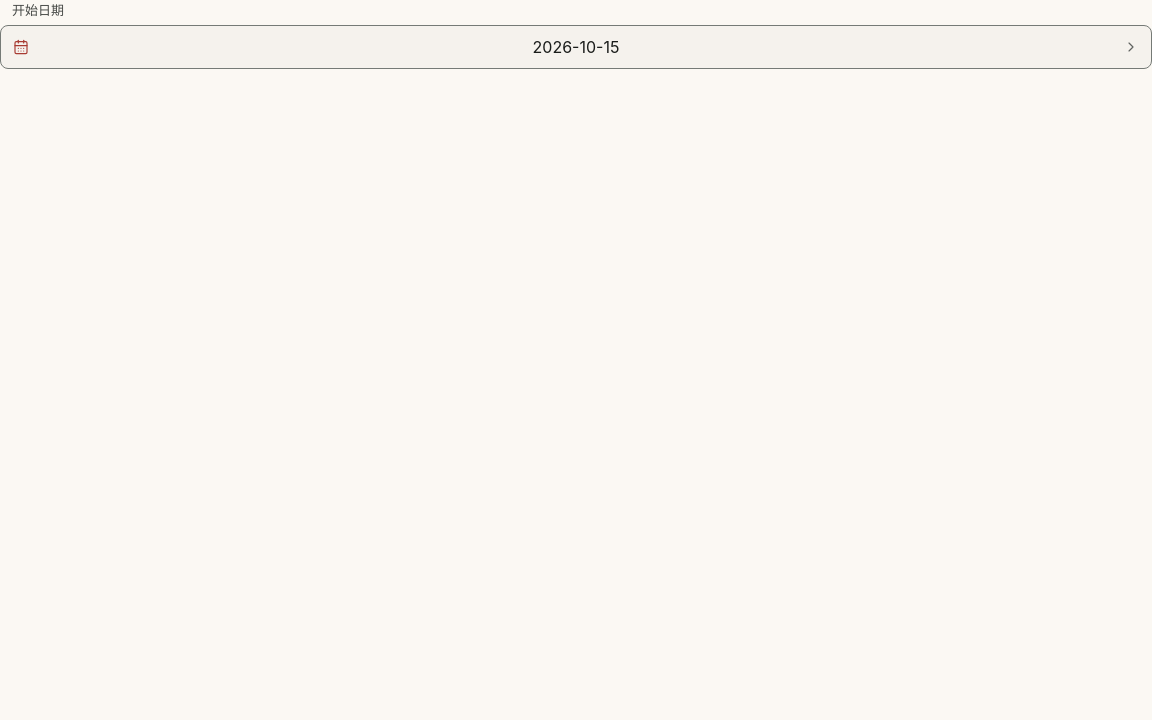
Test: shared control keyboard and focus behavior › closes the calendar with Escape from a day button and returns focus
The image size is (1152, 720).
Click the button named "开始日期". click: [576, 47]
box: x1=0 y1=25 x2=1151 y2=69
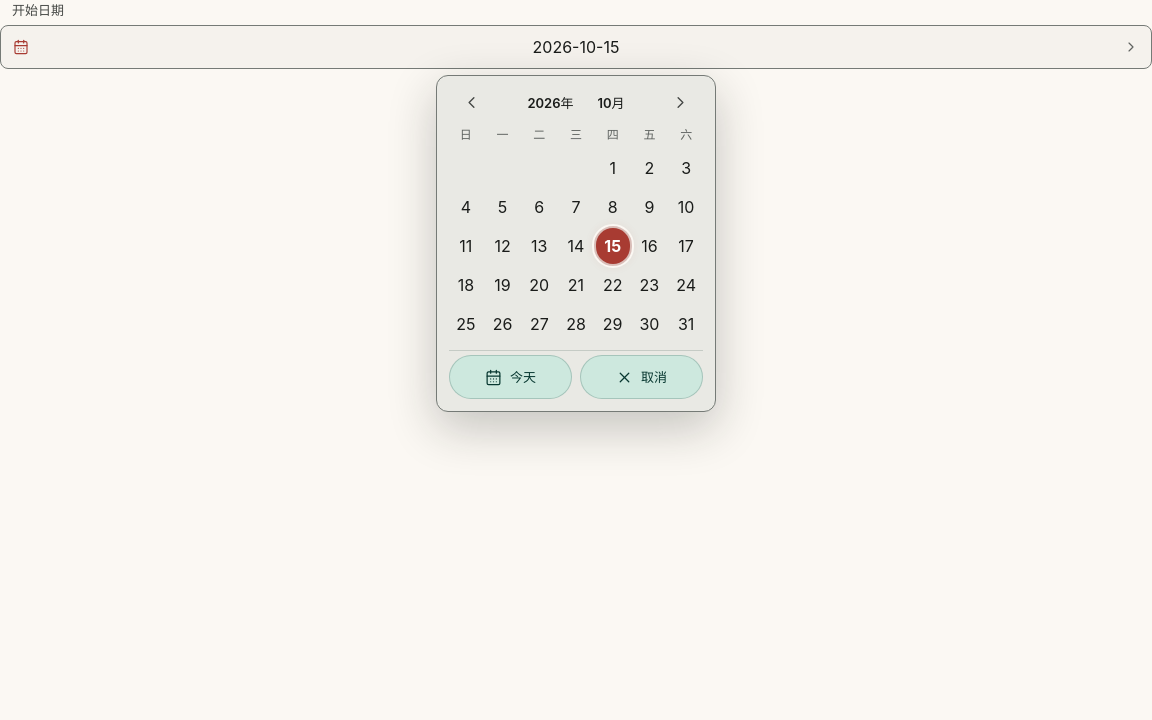
Press Escape
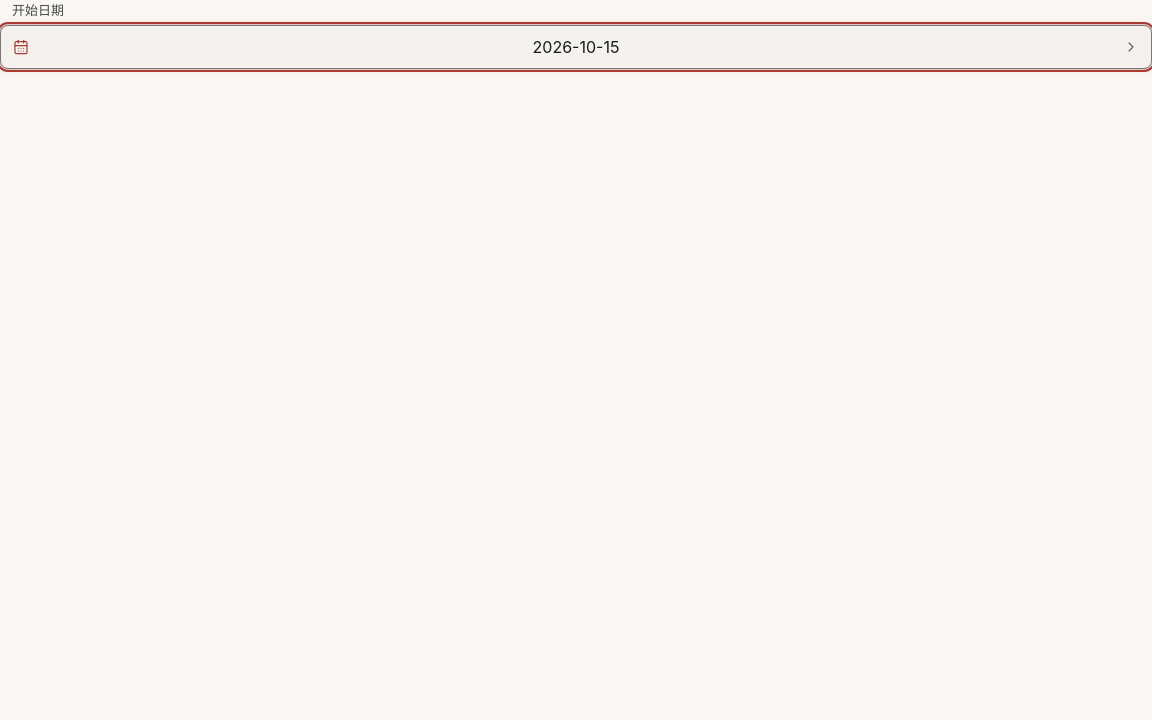
Check: the dialog is gone
